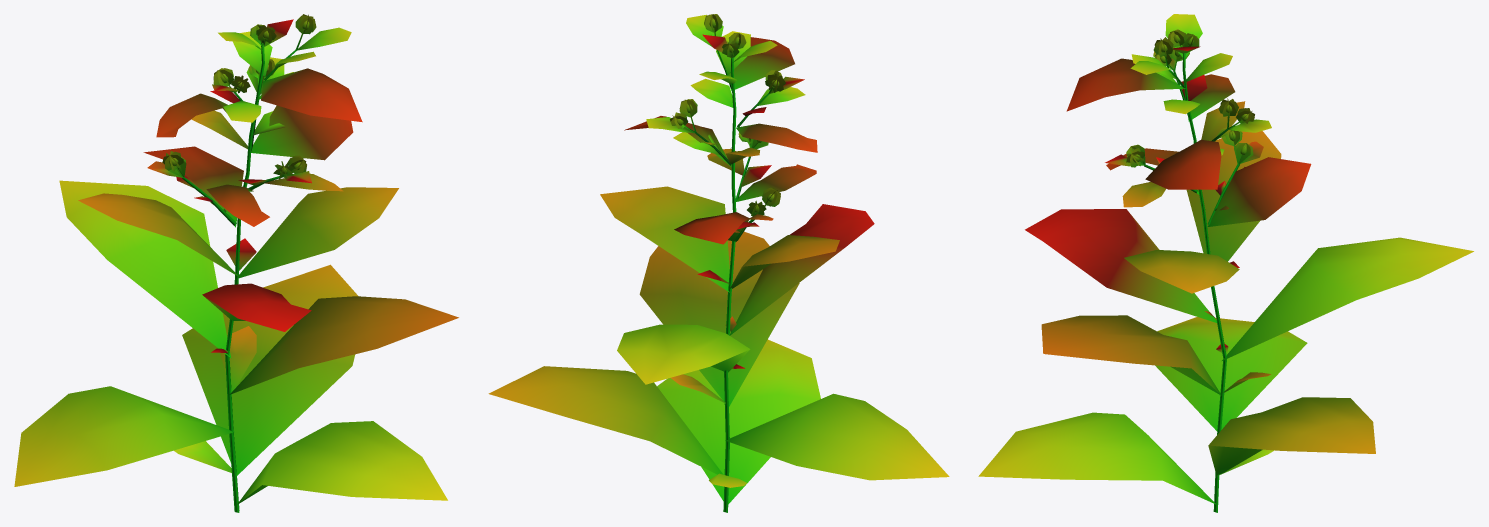
The model's file is Greater Burdock_LOD3_Var2_xh5pdgiqx.fbx.
The picture shows the model from 3 angles, left to right: view 1: azimuth 30°, elevation 25°; view 2: azimuth 150°, elevation 25°; view 3: azimuth 270°, elevation 25°; orthographic projection. The views are drawn at different scales.
Visible parts, largest first — view 1: _91n2_Var2_LOD3; view 2: _91n2_Var2_LOD3; view 3: _91n2_Var2_LOD3.
Boxes of the visible parts, box(x1,y1,x2,y2) form: _91n2_Var2_LOD3: box(14, 14, 458, 512); _91n2_Var2_LOD3: box(488, 14, 949, 512); _91n2_Var2_LOD3: box(978, 14, 1473, 512).
Size of the model in its own units: 78.97 by 93.88 by 85.73.
